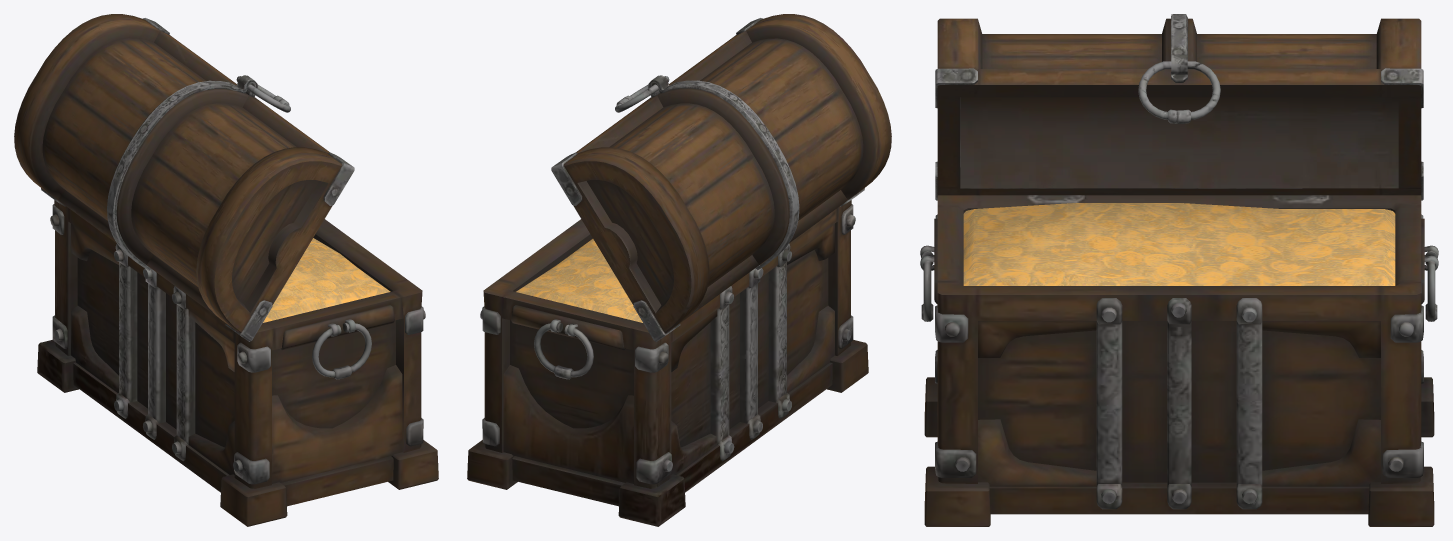
The model's file is chest.glb.
The picture shows the model from 3 angles, left to right: view 1: azimuth 30°, elevation 25°; view 2: azimuth 150°, elevation 25°; view 3: azimuth 270°, elevation 25°; orthographic projection. The views are drawn at different scales.
Visible parts, largest first — view 1: SM_TreasureChest_Base_C.001, SM_TreasureChest_C_Lid.001, SM_AncientCoinChest_01.001; view 2: SM_TreasureChest_Base_C.001, SM_TreasureChest_C_Lid.001, SM_AncientCoinChest_01.001; view 3: SM_TreasureChest_Base_C.001, SM_TreasureChest_C_Lid.001, SM_AncientCoinChest_01.001.
Part boxes in pixels (x1=…): SM_TreasureChest_Base_C.001: x1=37, y1=200, x2=438, y2=526; SM_TreasureChest_C_Lid.001: x1=14, y1=14, x2=354, y2=341; SM_AncientCoinChest_01.001: x1=263, y1=238, x2=390, y2=322; SM_TreasureChest_Base_C.001: x1=467, y1=200, x2=868, y2=526; SM_TreasureChest_C_Lid.001: x1=551, y1=14, x2=891, y2=341; SM_AncientCoinChest_01.001: x1=516, y1=239, x2=642, y2=322; SM_TreasureChest_Base_C.001: x1=920, y1=195, x2=1438, y2=526; SM_TreasureChest_C_Lid.001: x1=935, y1=14, x2=1423, y2=200; SM_AncientCoinChest_01.001: x1=963, y1=203, x2=1395, y2=285.
Bounding box in the file's own units: 0.6497 × 0.9725 × 1.07.
3 materials, 3 textured.
